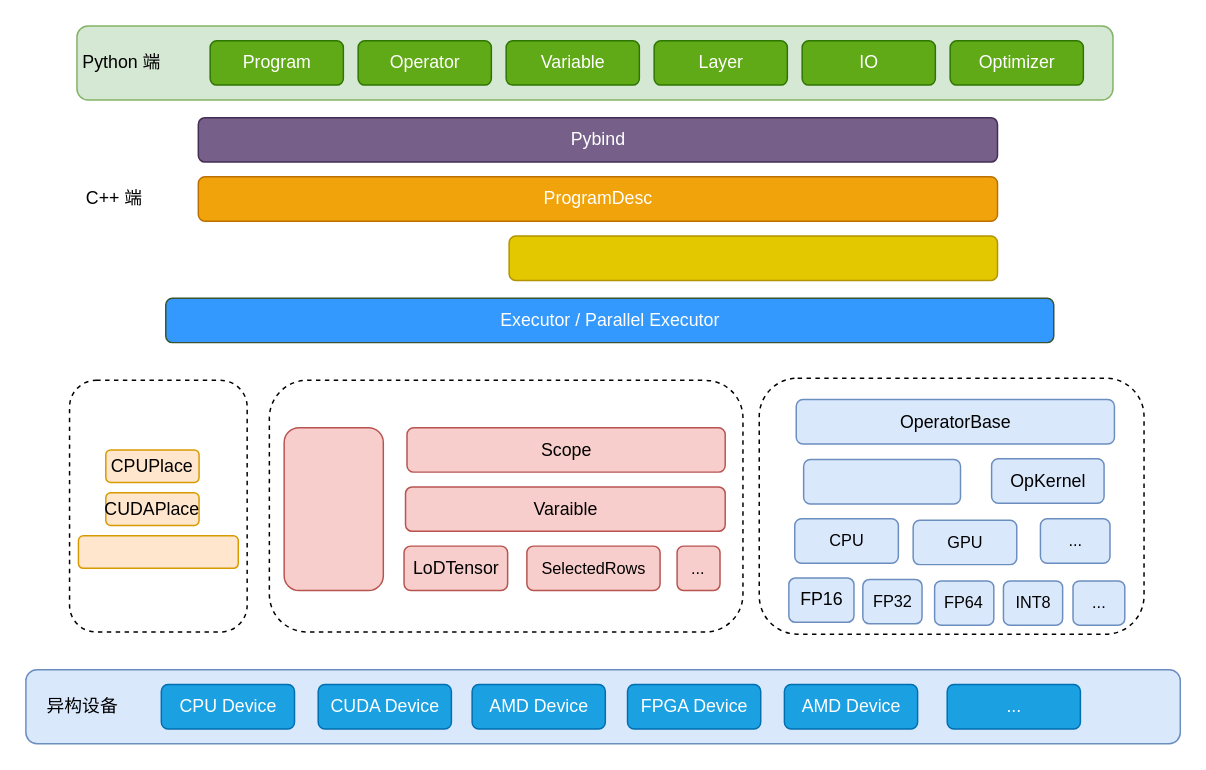
Image size: 1206x770. Some labels were removed from this diagram. Each missing label, with the box of its shape:
Allocator: (283, 426, 383, 591)
ControlFlowOp: (802, 458, 961, 504)
CUDAPinnedPlace: (77, 534, 238, 568)
SSA Graph: (508, 235, 998, 280)
